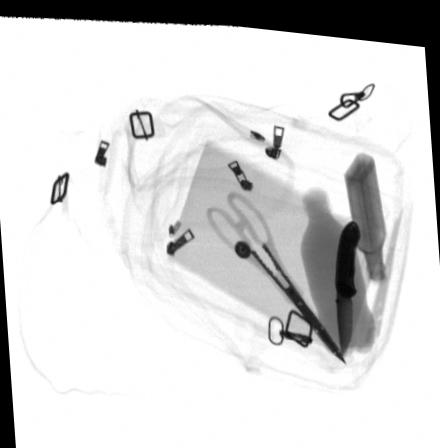Knife: (334, 210, 361, 348)
Scissors: (204, 182, 345, 355)
